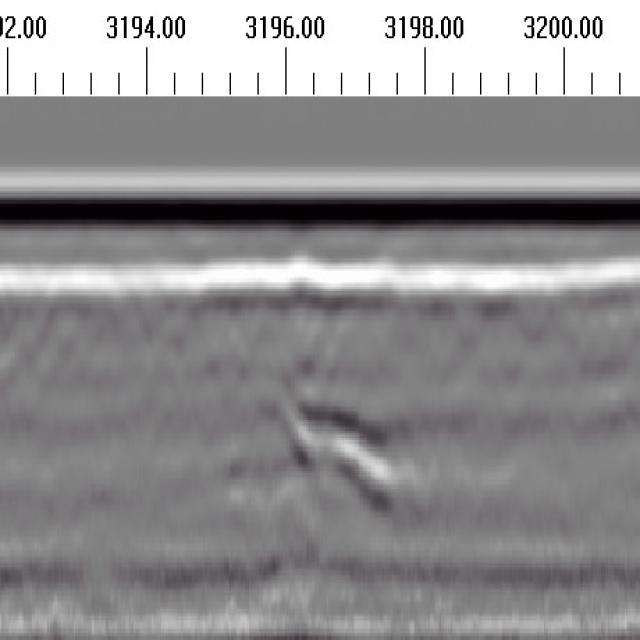loose: (292, 392, 421, 510)
